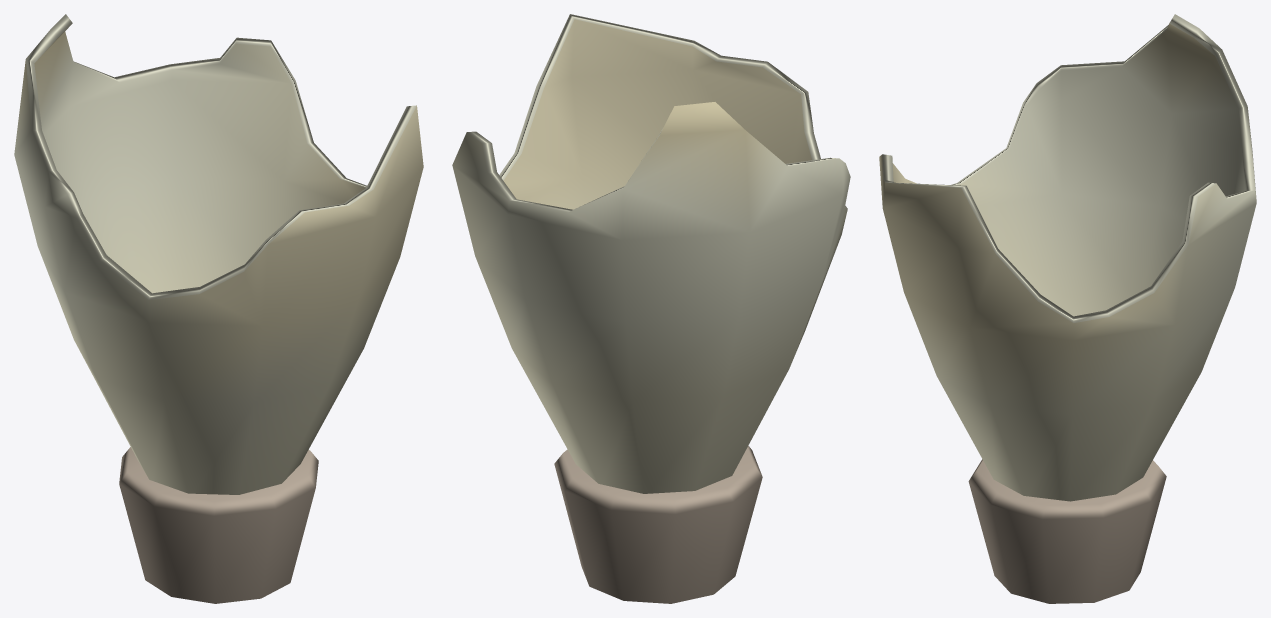
The model's file is LighthouseBrokenLightbulb.glb.
3 renders of one model, left to right at view 1: azimuth 30°, elevation 25°; view 2: azimuth 150°, elevation 25°; view 3: azimuth 270°, elevation 25°, orthographic. The views are drawn at different scales.
Visible parts, largest first — view 1: LighthouseBrokenLightbulb; view 2: LighthouseBrokenLightbulb; view 3: LighthouseBrokenLightbulb.
Part boxes in pixels (<box>): LighthouseBrokenLightbulb: <box>14,14,423,603</box>; LighthouseBrokenLightbulb: <box>452,14,850,603</box>; LighthouseBrokenLightbulb: <box>879,14,1256,603</box>.
Bounding box in the file's own units: 0.4852 × 0.724 × 0.488.
